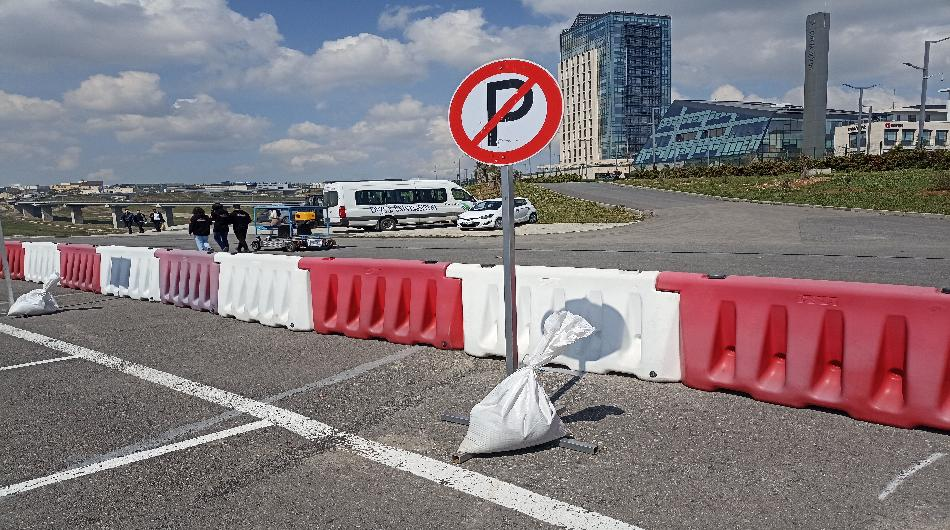park_yapilmaz_3: (444, 52, 565, 169)
